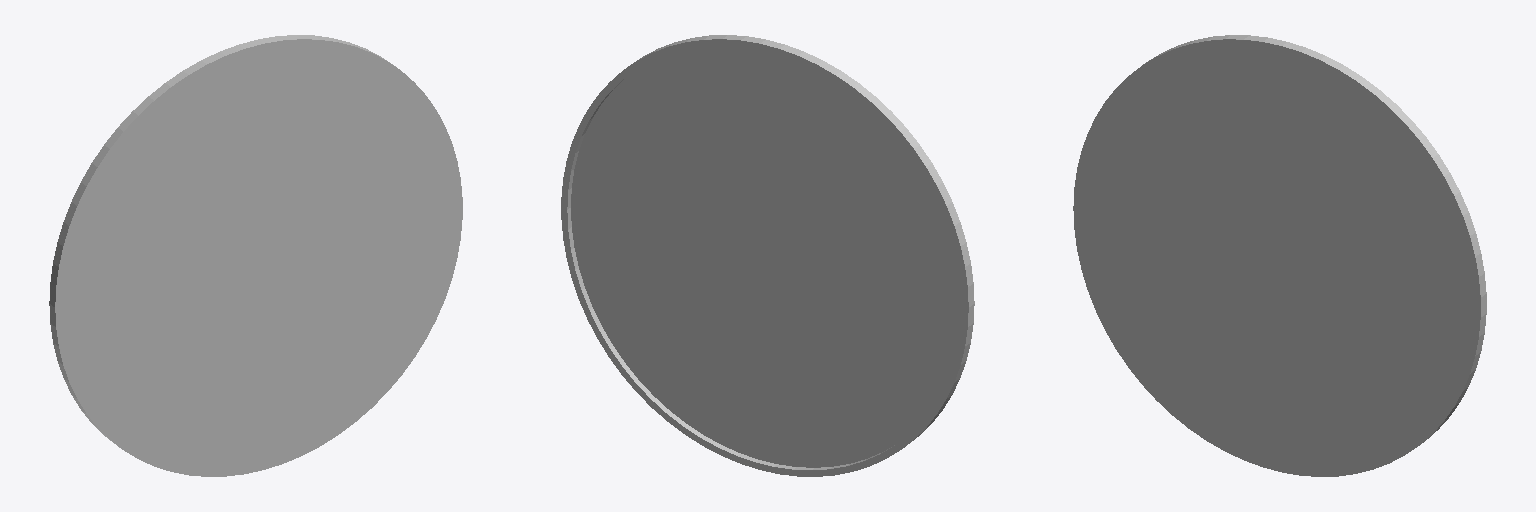
Rendered from Gong.obj.
3 views of the same model, side by side, from view 1: azimuth 30°, elevation 25°; view 2: azimuth 150°, elevation 25°; view 3: azimuth 330°, elevation 25° (orthographic).
Visible parts, largest first — view 1: Body1; view 2: Body1; view 3: Body1.
Boxes of the visible parts, x1,y1,x2,y2 form: Body1: [49, 35, 462, 476]; Body1: [561, 35, 974, 476]; Body1: [1073, 35, 1486, 476].
Size of the model in its own units: 2 by 2 by 0.05.